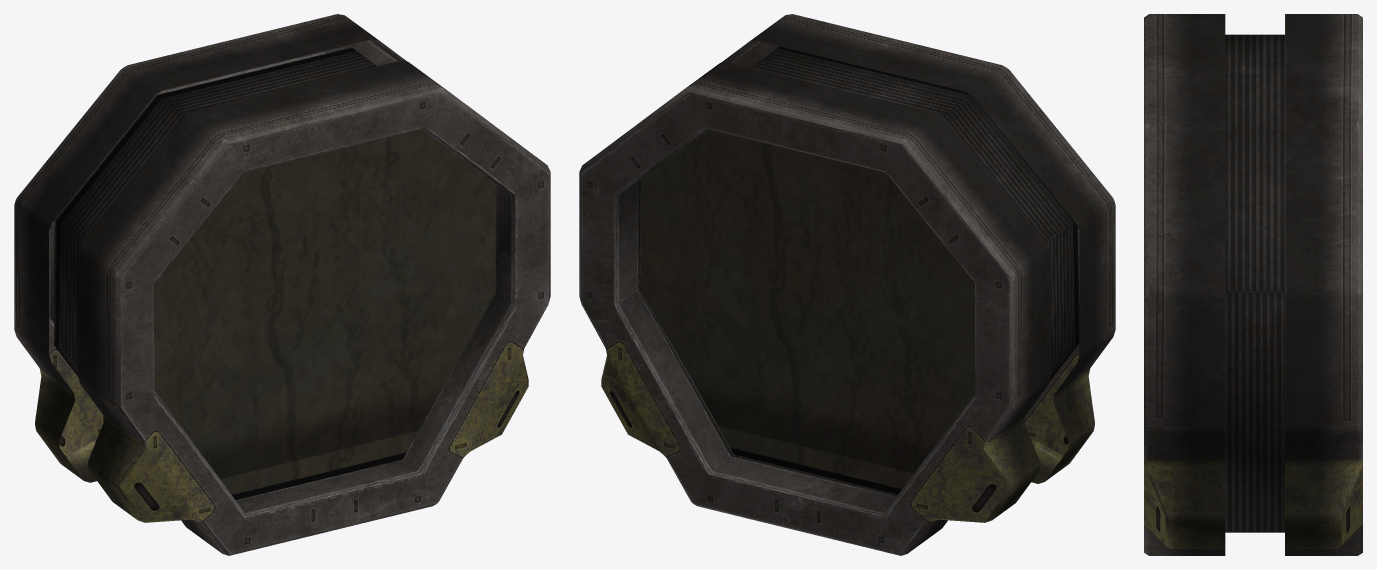
The model's file is theta_ground_window_frame_small.dae.
3 views of the same model, side by side, from view 1: azimuth 30°, elevation 25°; view 2: azimuth 150°, elevation 25°; view 3: azimuth 270°, elevation 25° (orthographic). The views are drawn at different scales.
Visible parts, largest first — view 1: pCube1, polySurface1; view 2: pCube1, polySurface1; view 3: pCube1.
Boxes of the visible parts, box(x1,y1,x2,y2) form: pCube1: box(14, 14, 550, 555); polySurface1: box(155, 129, 495, 500); pCube1: box(579, 14, 1115, 555); polySurface1: box(641, 129, 974, 494); pCube1: box(1144, 14, 1362, 555).
Size of the model in its own units: 2.02 by 1.85 by 0.8384.
